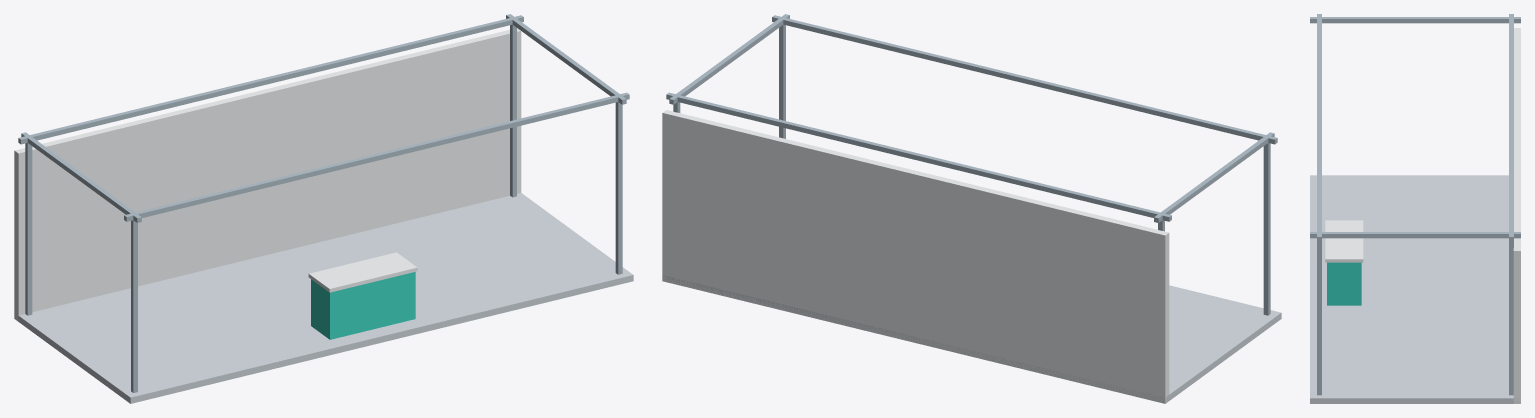
3 renders of one model, left to right at view 1: azimuth 30°, elevation 25°; view 2: azimuth 150°, elevation 25°; view 3: azimuth 270°, elevation 25°, orthographic. The views are drawn at different scales.
Parts seen in each view (by area): view 1: Exhibition Booth Concept; view 2: Exhibition Booth Concept; view 3: Exhibition Booth Concept.
Boxes of the visible parts, box(x1,y1,x2,y2) form: Exhibition Booth Concept: box(14, 14, 633, 403); Exhibition Booth Concept: box(662, 14, 1281, 403); Exhibition Booth Concept: box(1310, 14, 1520, 403).
Bounding box in the file's own units: 10 × 3.49 × 4.
